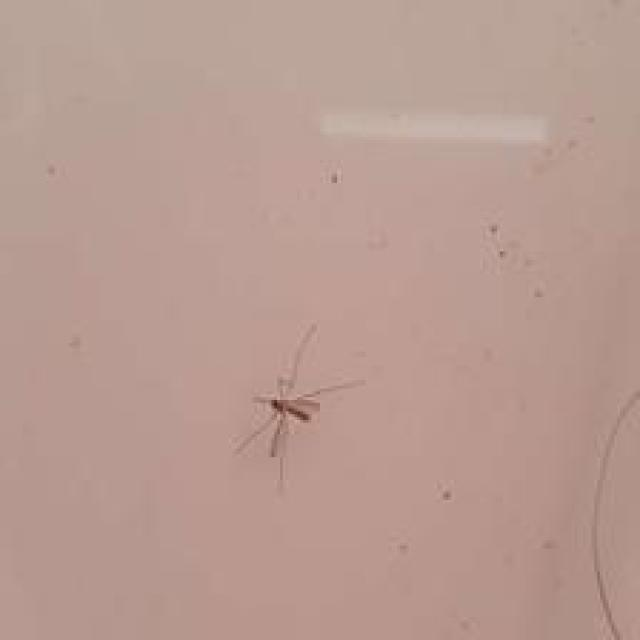Culex: (231, 321, 366, 493)
